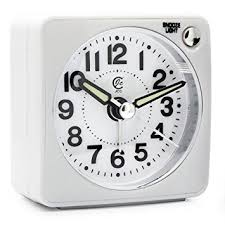alarm_clock: (6, 16, 209, 206)
